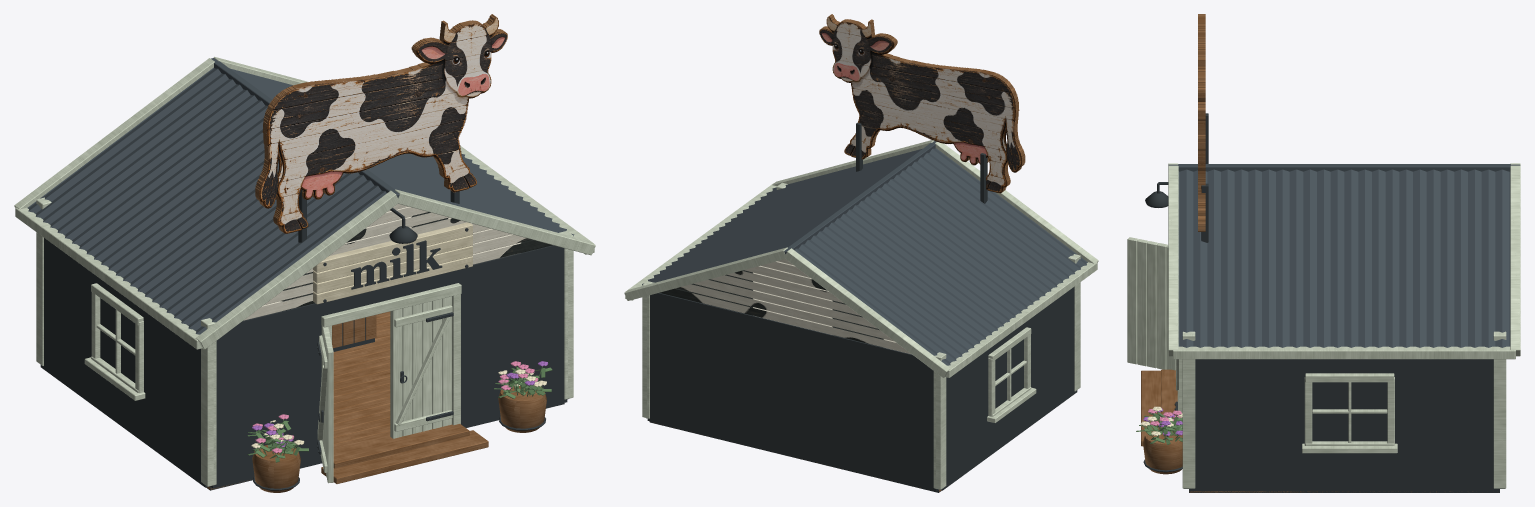
The model's file is MilkShop1931.fbx.
3 renders of one model, left to right at view 1: azimuth 30°, elevation 25°; view 2: azimuth 150°, elevation 25°; view 3: azimuth 270°, elevation 25°, orthographic. The views are drawn at different scales.
Parts seen in each view (by area): view 1: Roof, CowSign, COL_Left, COL_FrontRight, COL_FrontLeft, Trim, Door_Right, MilkSign, Interior, Planters, Shell, Windows (+2 smaller); view 2: Roof, COL_Back, CowSign, COL_Left, Shell, Trim, Windows, COL_Floor; view 3: Roof, COL_Right, Trim, Door_Left, Windows, Planters, CowSign, COL_Floor.
Part boxes in pixels (x1=…): Roof: x1=14, y1=56, x2=595, y2=349; CowSign: x1=255, y1=14, x2=507, y2=242; COL_Left: x1=40, y1=238, x2=209, y2=487; COL_FrontRight: x1=454, y1=245, x2=567, y2=426; COL_FrontLeft: x1=210, y1=302, x2=326, y2=488; Trim: x1=36, y1=197, x2=573, y2=486; Door_Right: x1=390, y1=296, x2=453, y2=438; MilkSign: x1=313, y1=222, x2=472, y2=304; Interior: x1=332, y1=311, x2=390, y2=445; Planters: x1=247, y1=361, x2=552, y2=492; Shell: x1=207, y1=204, x2=552, y2=489; Windows: x1=84, y1=283, x2=145, y2=400; Roof: x1=624, y1=140, x2=1098, y2=377; COL_Back: x1=647, y1=293, x2=938, y2=491; CowSign: x1=819, y1=14, x2=1025, y2=203; COL_Left: x1=939, y1=287, x2=1077, y2=490; Shell: x1=654, y1=259, x2=941, y2=491; Trim: x1=642, y1=182, x2=1080, y2=489; Windows: x1=987, y1=327, x2=1036, y2=422; COL_Floor: x1=649, y1=421, x2=941, y2=492; Roof: x1=1168, y1=163, x2=1520, y2=359; COL_Right: x1=1189, y1=359, x2=1499, y2=491; Trim: x1=1141, y1=331, x2=1506, y2=488; Door_Left: x1=1127, y1=237, x2=1175, y2=370; Windows: x1=1302, y1=373, x2=1397, y2=453; Planters: x1=1136, y1=406, x2=1182, y2=474; CowSign: x1=1198, y1=14, x2=1208, y2=242; COL_Floor: x1=1189, y1=491, x2=1499, y2=492.
Size of the model in its own units: 8.09 by 7.85 by 7.33.
